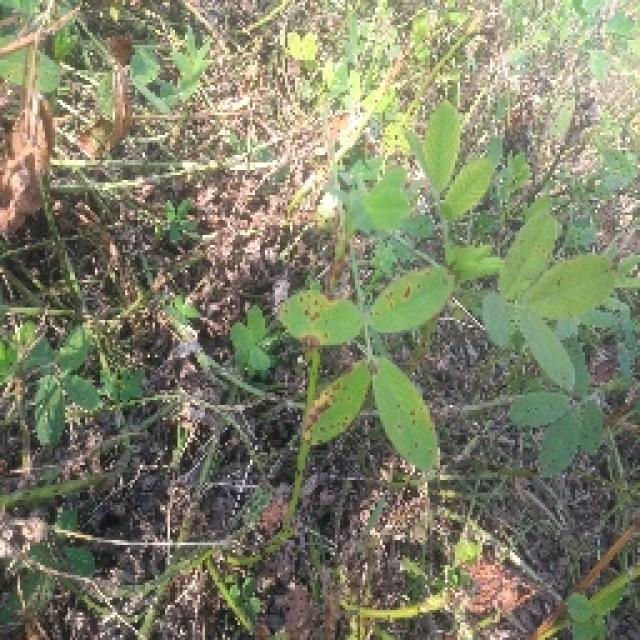Yellowish: (249, 247, 454, 488), (500, 313, 630, 508)
